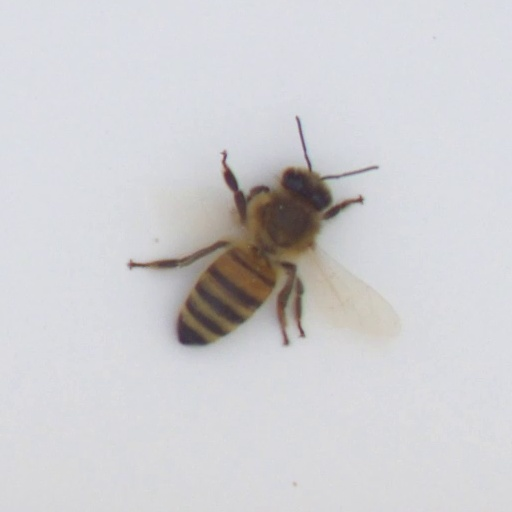Bee: (157, 161, 333, 352)
Thorax: (246, 194, 314, 261)
